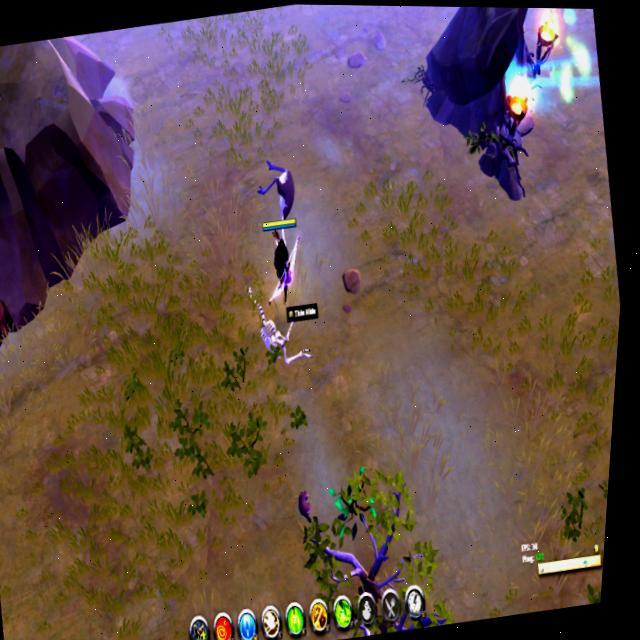mob: (245, 152, 308, 238)
red: (254, 210, 309, 303)
